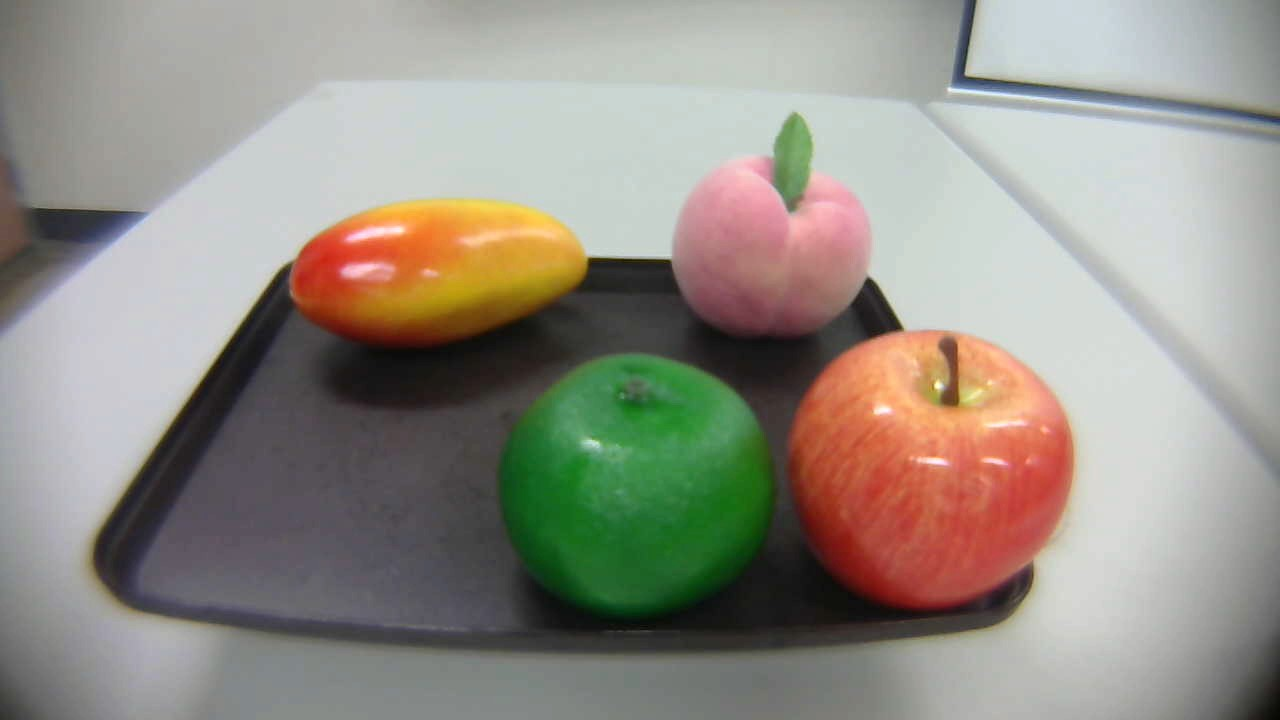green orange: (483, 349, 792, 611)
peach: (658, 109, 873, 348)
red apple: (785, 331, 1082, 611)
red mango: (278, 196, 605, 364)
